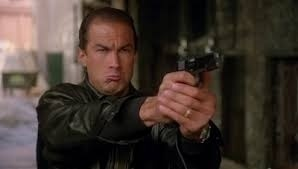pistol: (177, 51, 229, 76)
